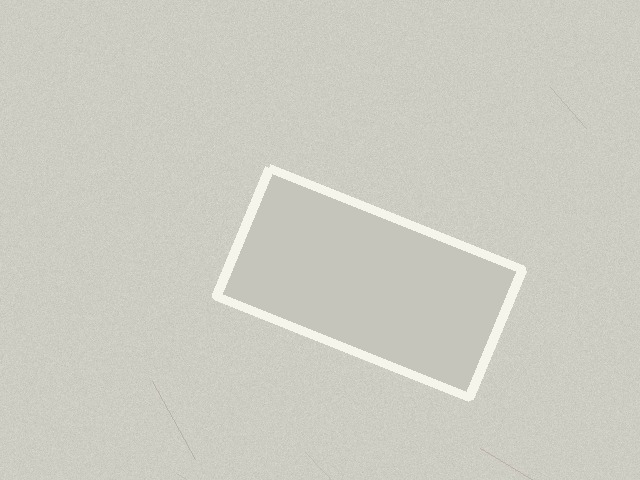parking_area: (216, 168, 522, 397)
